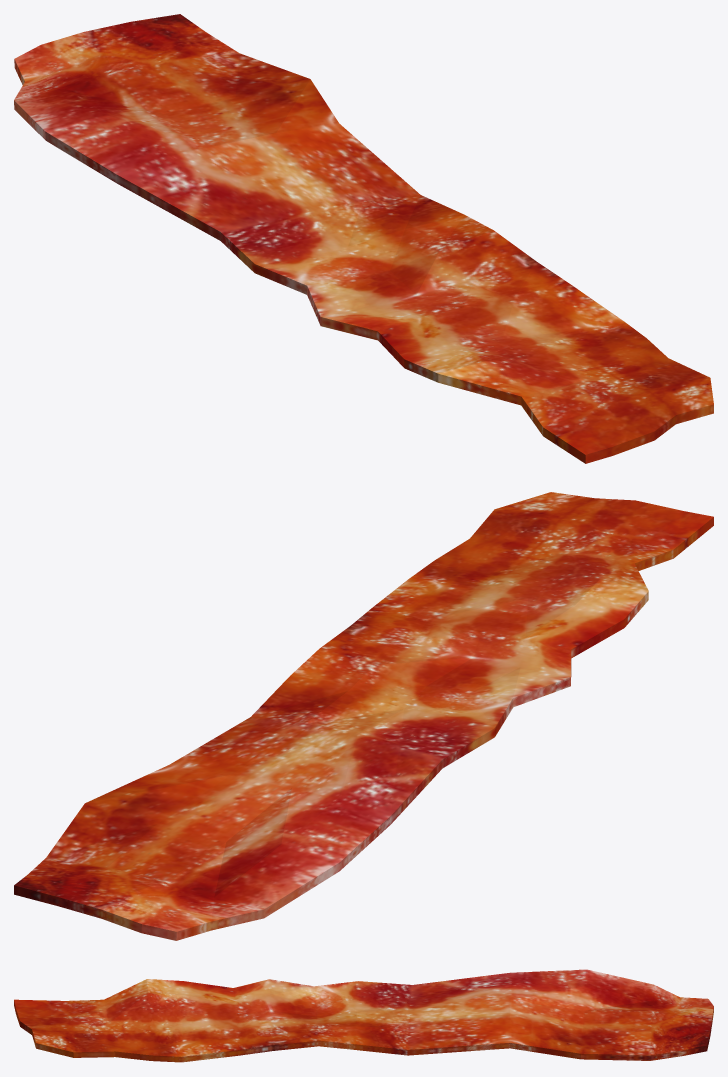
File: 5f381056-6edc-4d3d-a66a-bf72dcc0d2f2.glb
The picture shows the model from 3 angles, top to bottom: view 1: azimuth 30°, elevation 25°; view 2: azimuth 150°, elevation 25°; view 3: azimuth 270°, elevation 25°; orthographic projection. The views are drawn at different scales.
Visible parts, largest first — view 1: Node; view 2: Node; view 3: Node.
Part boxes in pixels (x1,y1,x2,y2): Node: [14, 14, 713, 463]; Node: [14, 492, 713, 940]; Node: [14, 969, 713, 1062].
Bounding box in the file's own units: 1.24 × 0.1474 × 4.6.
Materials: 1 (1 with a texture image).
